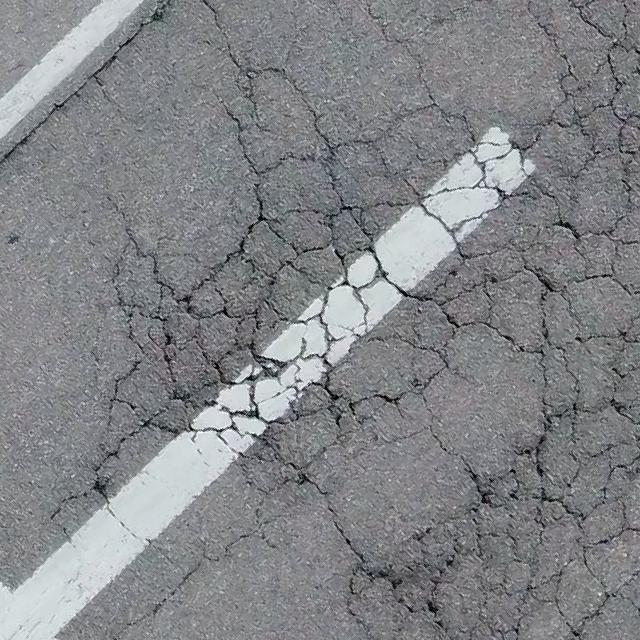GRIETA: (0, 0, 170, 161)
PIEL DE COCODRILO: (37, 0, 639, 639)
